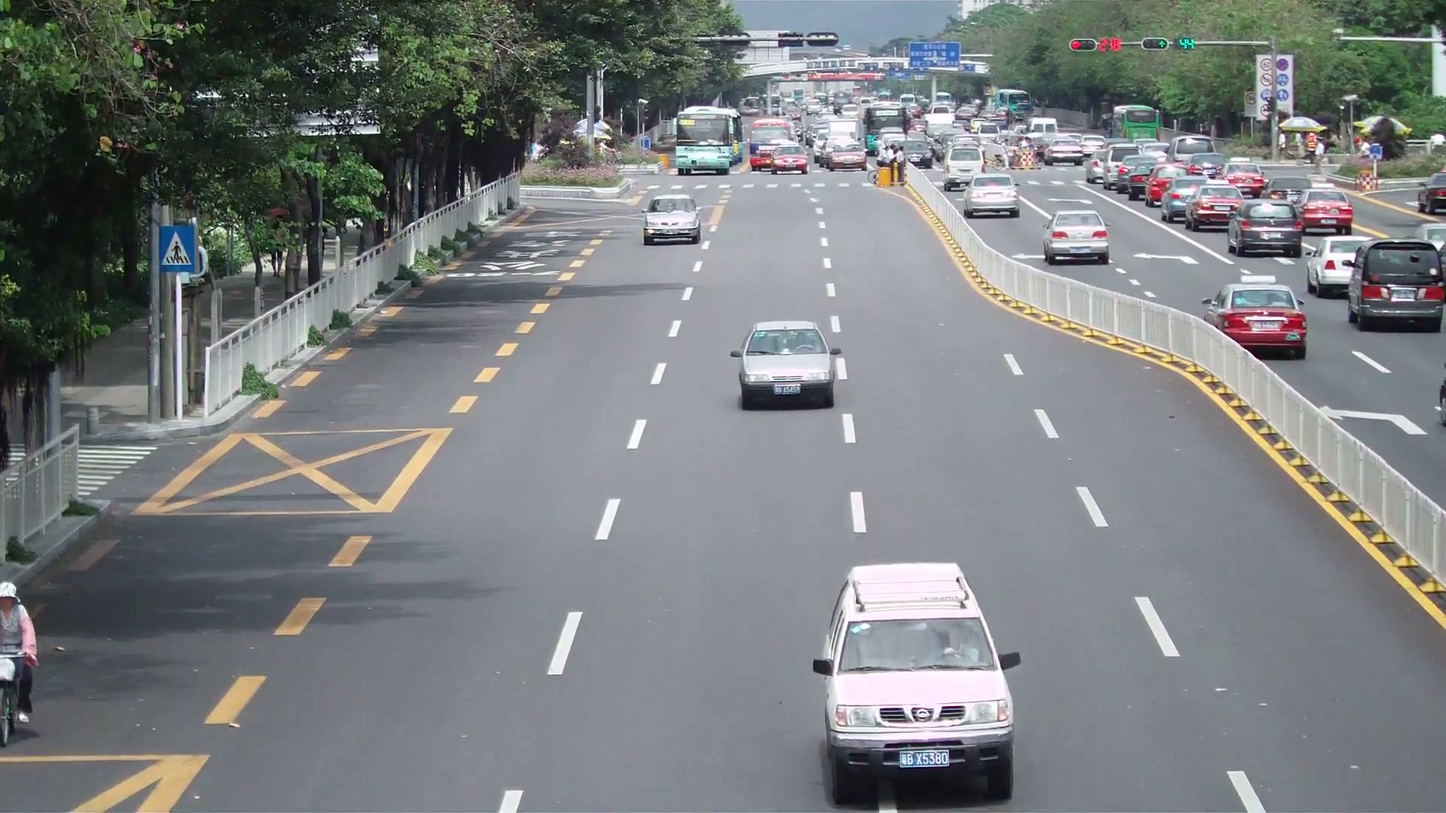bus: (672, 105, 746, 175)
car: (812, 561, 1022, 805), (732, 318, 838, 410), (1346, 239, 1444, 332), (1206, 281, 1309, 359), (1304, 233, 1379, 296), (1225, 199, 1303, 259), (1042, 203, 1112, 264), (642, 191, 702, 245), (1295, 187, 1354, 234), (1188, 183, 1244, 232), (963, 173, 1020, 218), (1161, 183, 1203, 226), (1415, 172, 1445, 215), (769, 145, 809, 174)
motorcycle: (0, 648, 36, 745), (0, 651, 23, 746)
pedestrian: (0, 583, 39, 721)
truck: (672, 107, 743, 175), (941, 136, 985, 192), (820, 120, 867, 172)
